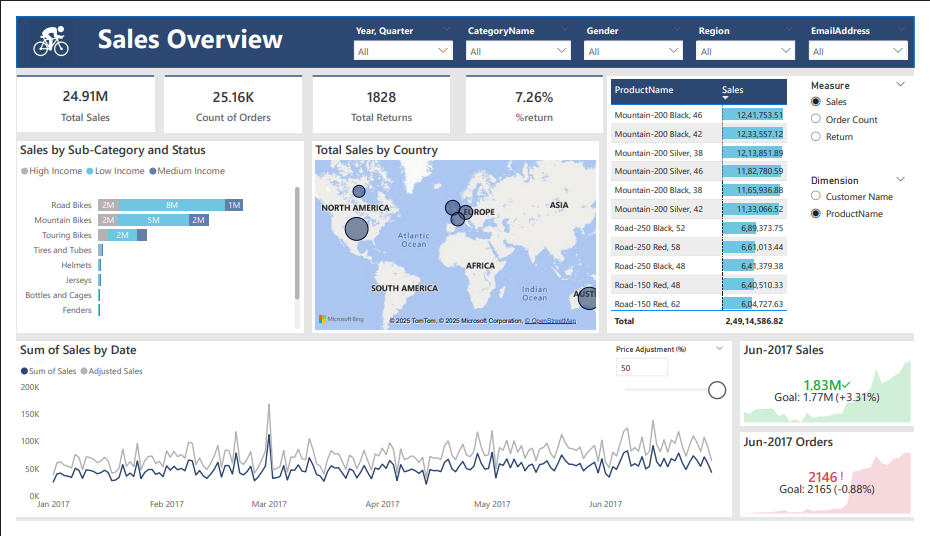

What the dashboard file says about the page in this screenshot:
{"tool":"powerbi","page":{"name":"Dashboard","canvas":[1280,720],"ordinal":0},"visuals":[{"type":"shape","box":[0,0.5,1279.8,72.3],"z":0},{"type":"slicer","fields":{"Values":["Product Categories.CategoryName"]},"box":[630.8,4.7,168.7,63.8],"z":0,"group":"g1"},{"type":"card","fields":{"Values":["Measure Table.Total Sales"]},"box":[0,85.2,195.6,79],"z":0,"group":"g2"},{"type":"slicer","fields":{"Values":["Customers Table.Gender"]},"box":[799.4,4.7,160.2,63.8],"z":1000,"group":"g1"},{"type":"card","fields":{"Values":["Count(Final Sales.OrderNumber)"]},"box":[211.4,85.2,195.6,79.4],"z":1000,"group":"g2"},{"type":"barChart","title":"Sales by Sub-Category and Status","fields":{"Y":["Sum(Final Sales.Sales)"],"Category":["Product Subcategories.SubcategoryName"],"Series":["Customers Table.Status"]},"box":[0,177,409,273.5],"z":1000},{"type":"textbox","box":[97.8,0,299.1,63.8],"z":2000},{"type":"slicer","fields":{"Values":["DateTable.Date.Variation.Date Hierarchy.Year","DateTable.Date.Variation.Date Hierarchy.Quarter"]},"box":[470.6,4.7,160.2,63.8],"z":2000,"group":"g1"},{"type":"card","fields":{"Values":["Sum(Returns.ReturnQuantity)"]},"box":[422.8,85.2,195,79.4],"z":2000,"group":"g2"},{"type":"image","box":[0,0,97.8,72.3],"z":3000},{"type":"slicer","fields":{"Values":["Customers Table.EmailAddress"]},"box":[1119.7,4.7,160.2,63.8],"z":3000,"group":"g1"},{"type":"card","fields":{"Values":["Measure Table.%return"]},"box":[640.6,85.1,195.6,79.4],"z":3000,"group":"g2"},{"type":"slicer","fields":{"Values":["Territories.Region"]},"box":[959.6,4.7,160.2,63.8],"z":4000,"group":"g1"},{"type":"shape","box":[640.6,46.8,195.6,75.1],"z":4000,"group":"g2"},{"type":"map","title":"Total Sales by Country","fields":{"Category":["Territories.Country"],"Size":["Sum(Final Sales.Sales)"]},"box":[420.7,177,409.6,273.5],"z":4000},{"type":"shape","box":[422.4,46.8,195.6,75.1],"z":5000,"group":"g2"},{"type":"lineChart","title":"Sum of Sales by Date","fields":{"Category":["DateTable.Date"],"Y":["Sum(Final Sales.Sales)","Measure Table.Adjusted Sales"]},"box":[0,463.5,1020.5,250.9],"z":5000},{"type":"shape","box":[211.2,46.8,195.6,75.1],"z":6000,"group":"g2"},{"type":"kpi","fields":{"Indicator":["Measure Table.Total Sales"],"TrendLine":["DateTable.YearMonth"],"Goal":["Measure Table.PreviousMonthSales"]},"box":[1032,463.5,248,121],"z":6000},{"type":"shape","box":[0,46.8,195.6,75.1],"z":7000,"group":"g2"},{"type":"kpi","fields":{"TrendLine":["DateTable.YearMonth"],"Goal":["Measure Table.PreviousMonthOrder"],"Indicator":["Measure Table.CountofOrderNumber"]},"box":[1032,593.9,248,120.5],"z":7000},{"type":"tableEx","fields":{"Values":["Products.ProductName","Measure Table.Total Sales"]},"box":[841.9,85,438,365.7],"z":8000},{"type":"group","id":"g1","title":"Slicer","box":[470.6,4.7,809.3,63.8],"z":9000},{"type":"group","id":"g2","title":"Card","box":[0,46.8,836.2,117.8],"z":10000},{"type":"slicer","fields":{"Values":["Price Adjustment (%).Price Adjustment (%)"]},"box":[841.9,463.5,178.6,87.9],"z":11001},{"type":"slicer","fields":{"Values":["Measure.Measure"]},"box":[1119.7,85,160.2,112],"z":12002},{"type":"slicer","fields":{"Values":["Dimension Selector.Dimension Selector"]},"box":[1119.7,219.7,160.2,96.4],"z":12003}]}

Visuals, with their boxes in screenshot pixels (x1, y1, x2, y2), scaled from the page's 1280x720 canvas onto the 930x536 screenshot:
shape: <region>0, 0, 929, 54</region>
slicer - Product Categories.CategoryName: <region>458, 3, 581, 51</region>
card - Measure Table.Total Sales: <region>0, 63, 142, 122</region>
slicer - Customers Table.Gender: <region>581, 3, 697, 51</region>
card - Count(Final Sales.OrderNumber): <region>154, 63, 296, 123</region>
"Sales by Sub-Category and Status" barChart: <region>0, 132, 297, 335</region>
textbox: <region>71, 0, 288, 47</region>
slicer - DateTable.Date.Variation.Date Hierarchy.Year x DateTable.Date.Variation.Date Hierarchy.Quarter: <region>342, 3, 458, 51</region>
card - Sum(Returns.ReturnQuantity): <region>307, 63, 449, 123</region>
image: <region>0, 0, 71, 54</region>
slicer - Customers Table.EmailAddress: <region>814, 3, 929, 51</region>
card - Measure Table.%return: <region>465, 63, 608, 122</region>
slicer - Territories.Region: <region>697, 3, 814, 51</region>
shape: <region>465, 35, 608, 91</region>
"Total Sales by Country" map: <region>306, 132, 603, 335</region>
shape: <region>307, 35, 449, 91</region>
"Sum of Sales by Date" lineChart: <region>0, 345, 741, 532</region>
shape: <region>153, 35, 296, 91</region>
kpi - Measure Table.Total Sales x DateTable.YearMonth: <region>750, 345, 929, 435</region>
shape: <region>0, 35, 142, 91</region>
kpi - DateTable.YearMonth x Measure Table.PreviousMonthOrder: <region>750, 442, 929, 532</region>
tableEx - Products.ProductName x Measure Table.Total Sales: <region>612, 63, 929, 336</region>
"Slicer" group: <region>342, 3, 929, 51</region>
"Card" group: <region>0, 35, 608, 123</region>
slicer - Price Adjustment (%).Price Adjustment (%): <region>612, 345, 741, 410</region>
slicer - Measure.Measure: <region>814, 63, 929, 147</region>
slicer - Dimension Selector.Dimension Selector: <region>814, 164, 929, 235</region>
